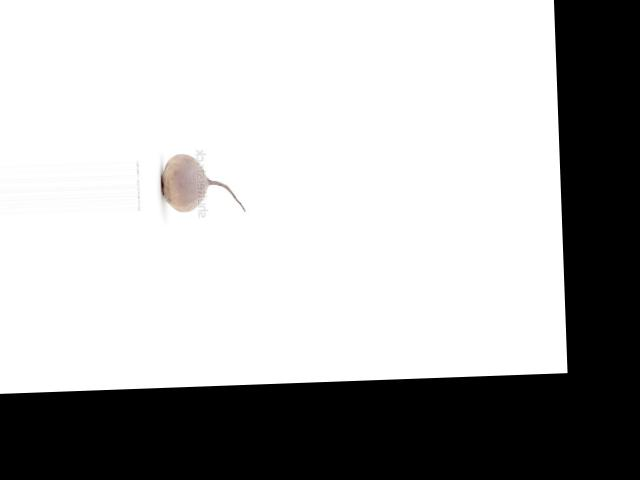beet: (159, 150, 245, 214)
